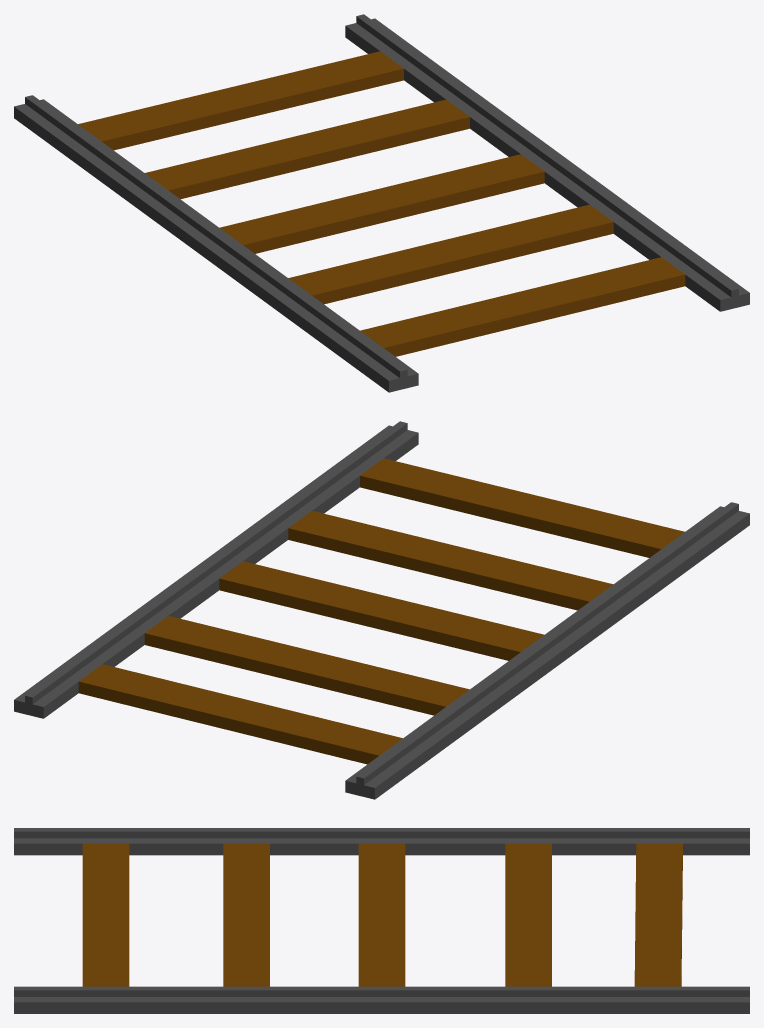
The model's file is Railway.fbx.
3 views of the same model, one above another, from view 1: azimuth 30°, elevation 25°; view 2: azimuth 150°, elevation 25°; view 3: azimuth 270°, elevation 25° (orthographic).
Visible parts, largest first — view 1: Plane; view 2: Plane; view 3: Plane.
Part boxes in pixels (<box>): Plane: <box>14,14,749,392</box>; Plane: <box>14,421,749,799</box>; Plane: <box>14,828,749,1013</box>.
Size of the model in its own units: 2868 by 141 by 5159.
